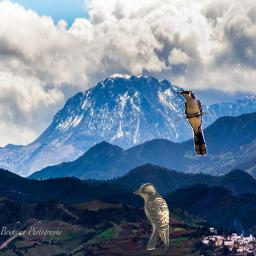Cuckoo: (175, 90, 208, 156)
Woodpecker: (133, 183, 169, 250)
